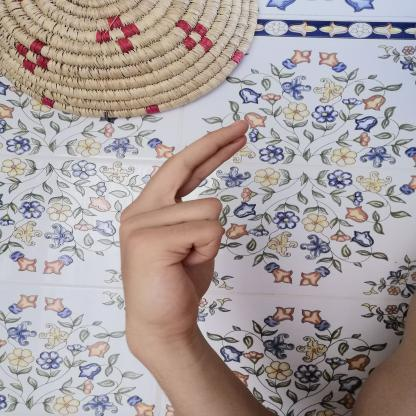ZAY: (113, 113, 260, 348)
